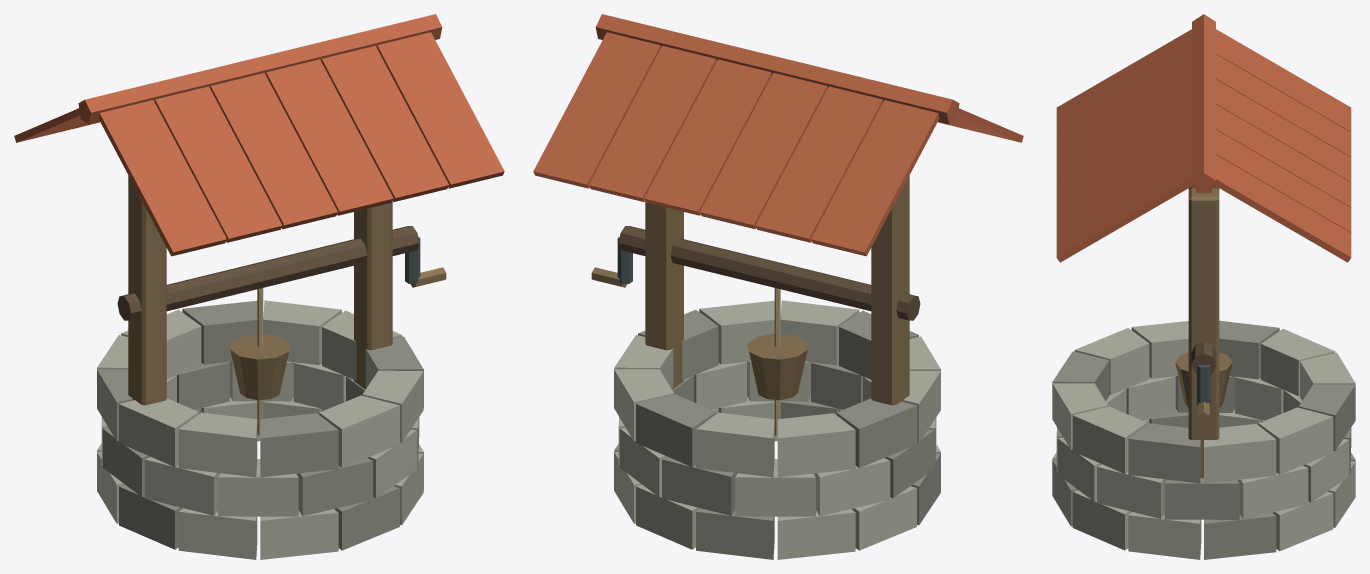
File: village-well.glb
The picture shows the model from 3 angles, left to right: view 1: azimuth 30°, elevation 25°; view 2: azimuth 150°, elevation 25°; view 3: azimuth 270°, elevation 25°; orthographic projection. The views are drawn at different scales.
Visible parts, largest first — view 1: Static_mesh; view 2: Static_mesh; view 3: Static_mesh.
Part boxes in pixels (x1,y1,x2,y2): Static_mesh: [14, 14, 504, 559]; Static_mesh: [533, 14, 1023, 559]; Static_mesh: [1052, 14, 1355, 559].
Bounding box in the file's own units: 2 × 2.32 × 1.58.
